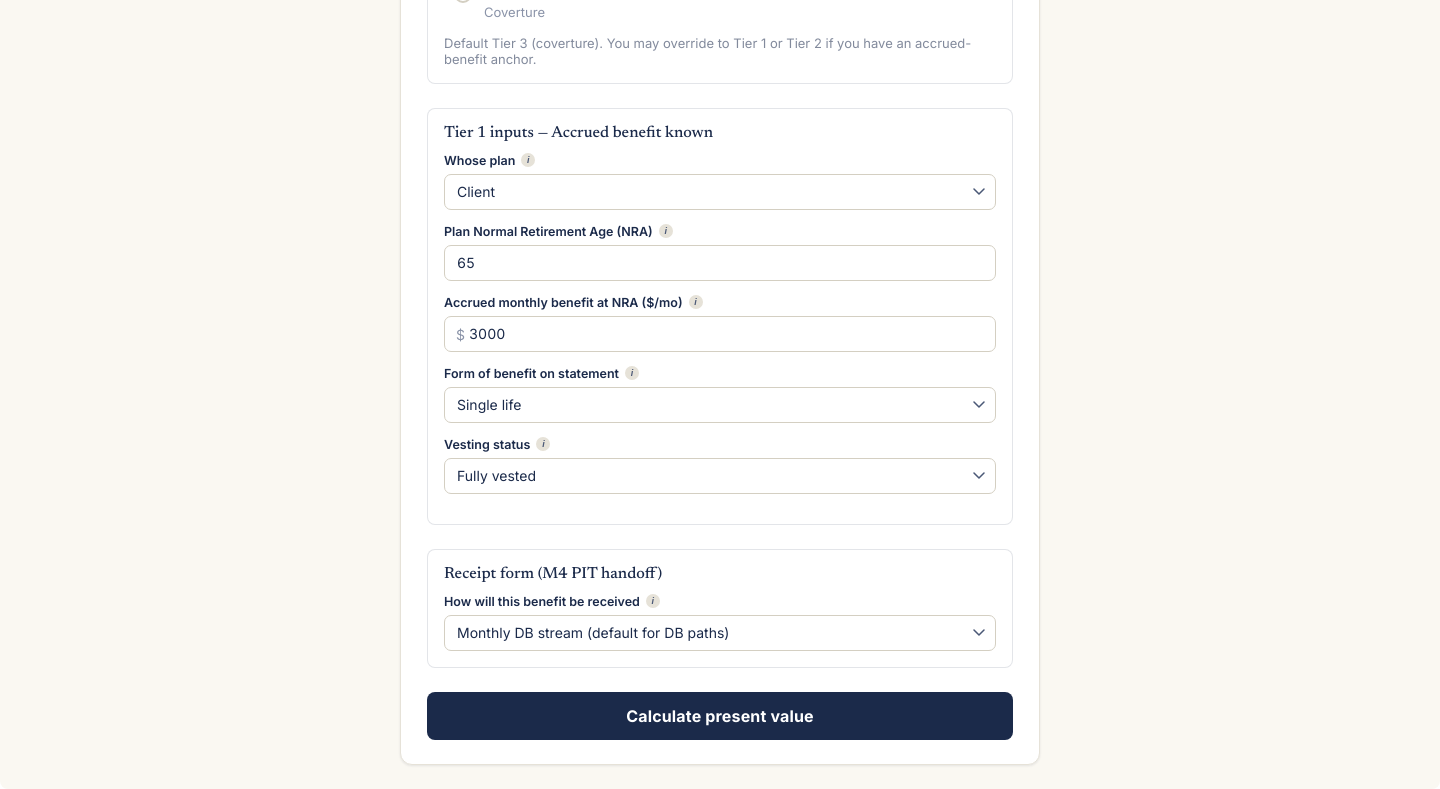
Scenario: PVA orchestrator (§7.10.3 / LL-17) › TC-PVA-Orchestrator-13: lump_sum_divergent seed surfaces lump_sum_offer_divergence via CalloutStack
(page scrolled)
Click the button "Calculate present value": [720, 716] box [427,692,1013,740]
(page scrolled)
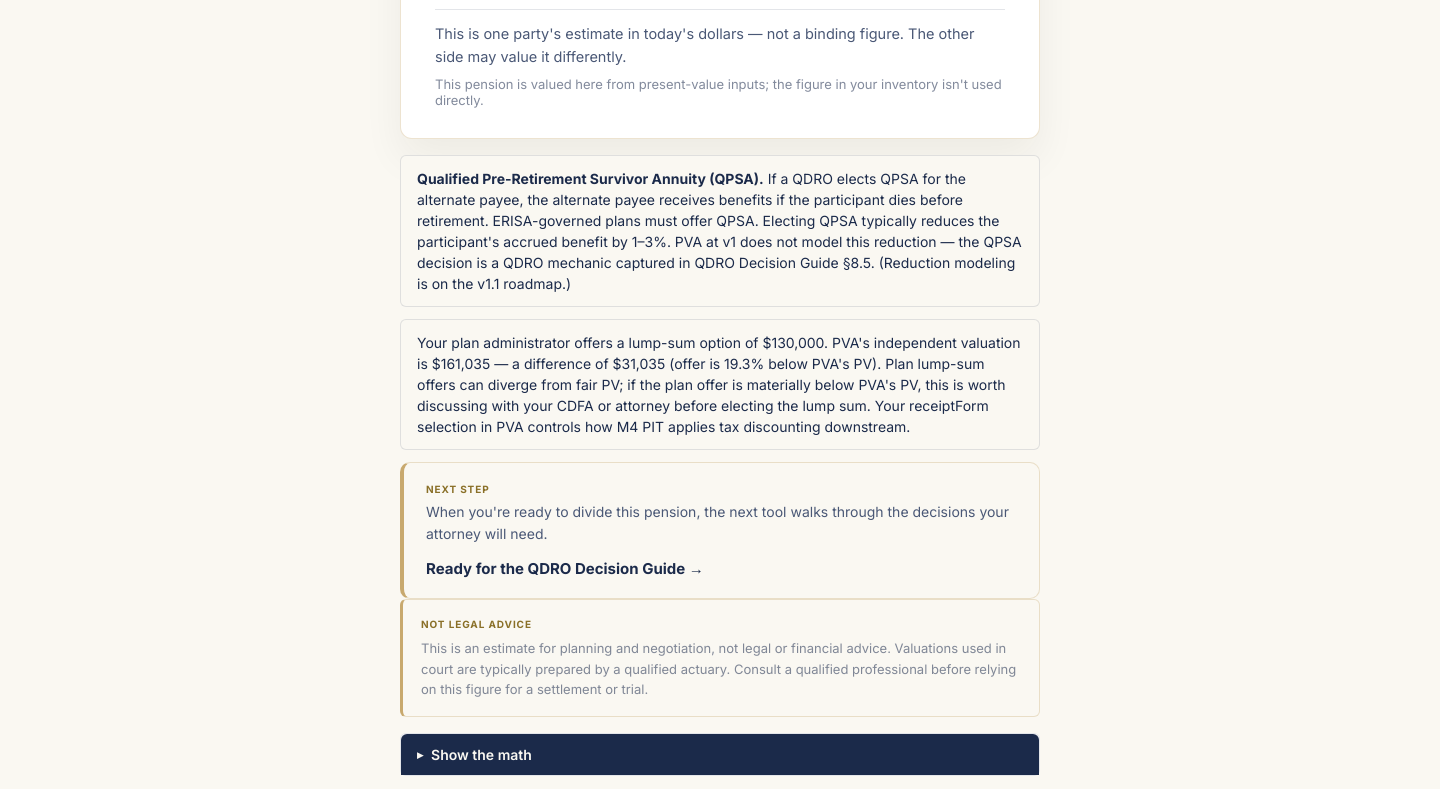
Expected: the element with test id "callout-lump_sum_offer_divergence" is shown, [400,319,1040,450]
